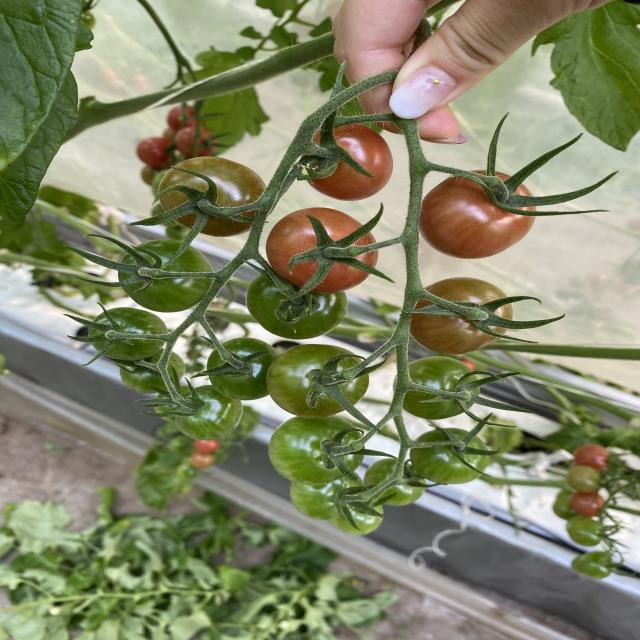c-half-riped: (418, 170, 538, 259), (266, 207, 378, 293), (157, 155, 264, 237), (409, 276, 515, 355), (302, 122, 394, 202)
c-unriped: (265, 342, 368, 419), (244, 267, 350, 340), (118, 238, 216, 313), (268, 414, 368, 484), (391, 355, 480, 419), (408, 426, 492, 484), (208, 338, 281, 401), (88, 307, 169, 361), (290, 472, 371, 521), (174, 385, 243, 441), (363, 456, 428, 506), (120, 347, 186, 395), (328, 494, 386, 535), (152, 386, 195, 424)
